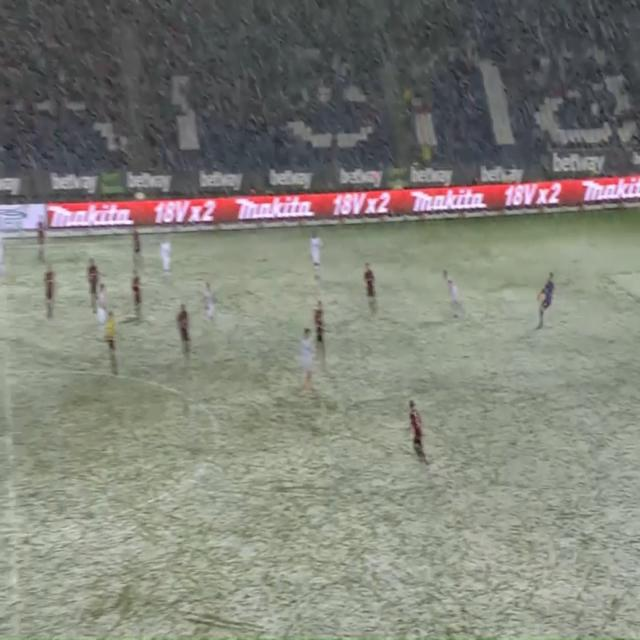ball: (371, 169, 380, 185)
goalkeeper: (533, 257, 558, 335)
player: (396, 385, 434, 473), (168, 300, 201, 375), (300, 217, 330, 292), (312, 297, 339, 375), (439, 259, 470, 326), (296, 325, 322, 404), (197, 275, 225, 348), (359, 264, 383, 333), (127, 262, 146, 328), (156, 226, 175, 289), (39, 262, 57, 324), (126, 220, 149, 268), (30, 215, 49, 265), (93, 276, 108, 325), (84, 256, 97, 304)
referee: (103, 309, 122, 378)
